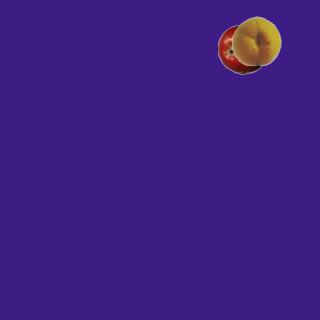Apple Braeburn: (217, 24, 267, 74)
Peach 2: (231, 15, 281, 65)
